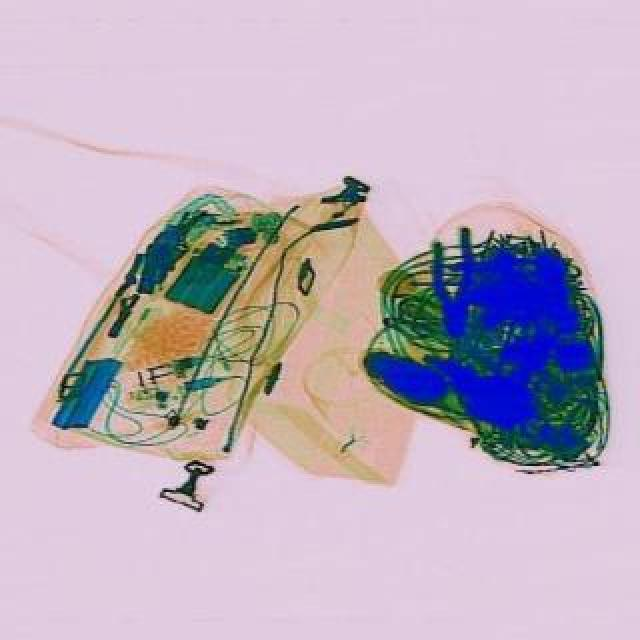wrench: (426, 228, 478, 340)
